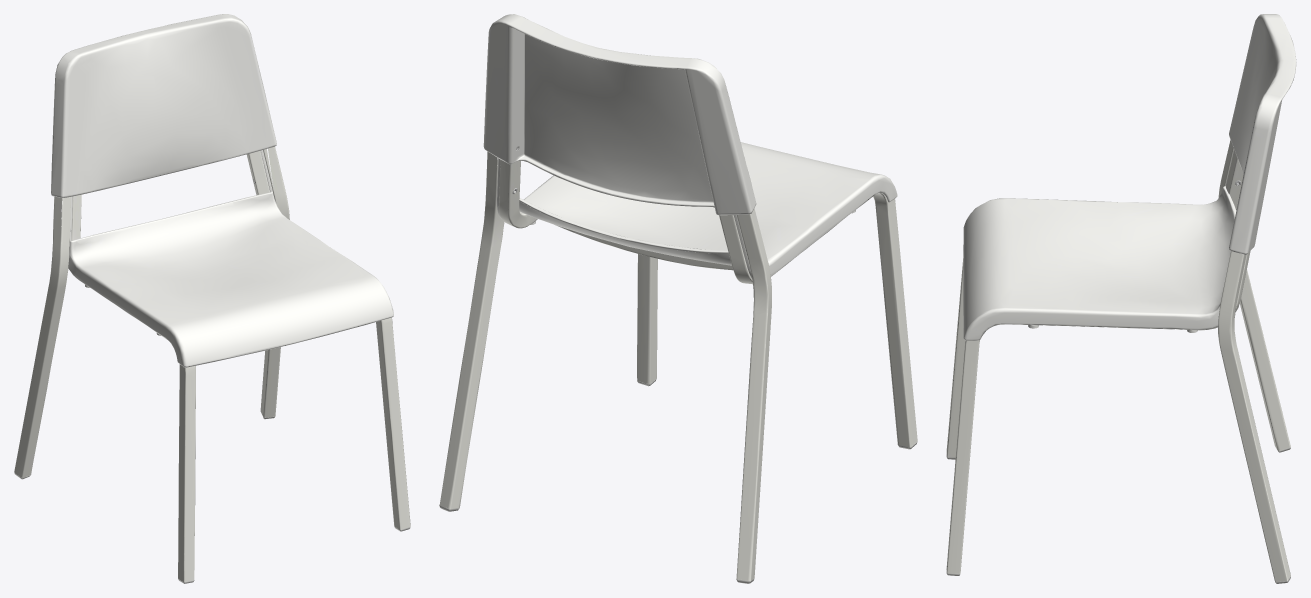
File: dining_chair_teodores_90350937.glb
3 renders of one model, left to right at view 1: azimuth 30°, elevation 25°; view 2: azimuth 150°, elevation 25°; view 3: azimuth 270°, elevation 25°, orthographic. The views are drawn at different scales.
Visible parts, largest first — view 1: model; view 2: model; view 3: model.
Part boxes in pixels (x1=…): model: x1=14, y1=14, x2=410, y2=583; model: x1=439, y1=14, x2=917, y2=583; model: x1=946, y1=14, x2=1296, y2=583.
Size of the model in its own units: 0.5175 by 0.7978 by 0.5497.
Materials: 1 (1 with a texture image).
